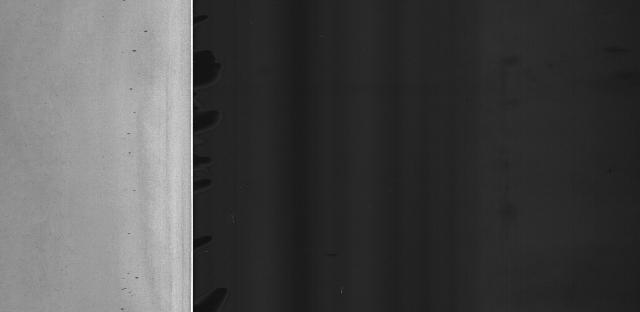inclusion: (115, 277, 131, 300), (129, 263, 145, 284), (125, 42, 139, 56), (127, 80, 139, 91), (141, 24, 154, 34)
